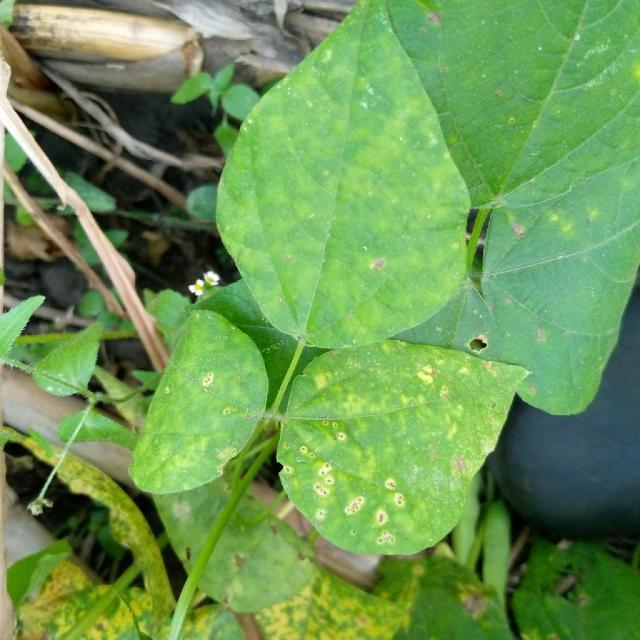hawar: (242, 330, 640, 626)
